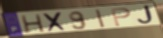9: (68, 11, 88, 31)
H: (20, 13, 47, 34)
I: (94, 9, 107, 29)
J: (137, 4, 158, 26)
P: (110, 7, 132, 28)
X: (42, 11, 69, 33)
